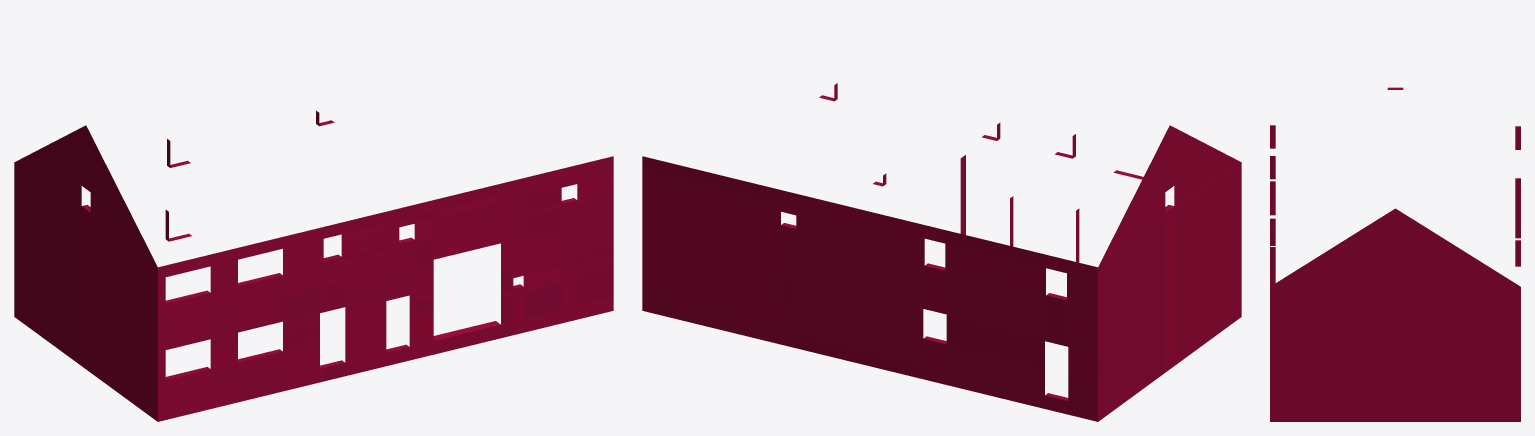
File: SM_Bld_007_Masonry.glb
3 renders of one model, left to right at view 1: azimuth 30°, elevation 25°; view 2: azimuth 150°, elevation 25°; view 3: azimuth 270°, elevation 25°, orthographic. The views are drawn at different scales.
Visible parts, largest first — view 1: SM_Bld_007_Masonry; view 2: SM_Bld_007_Masonry; view 3: SM_Bld_007_Masonry.
Boxes of the visible parts, box(x1,y1,x2,y2) form: SM_Bld_007_Masonry: box(14, 110, 613, 421); SM_Bld_007_Masonry: box(642, 83, 1241, 421); SM_Bld_007_Masonry: box(1270, 87, 1520, 421).
Size of the model in its own units: 17.58 by 9.01 by 9.59.
